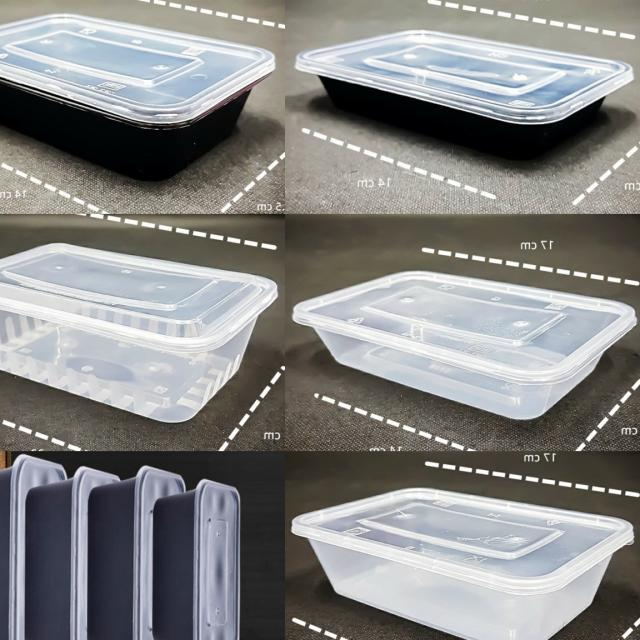plastik: (292, 488, 634, 640), (293, 271, 636, 418), (0, 244, 278, 421), (0, 14, 275, 179), (296, 29, 634, 158), (87, 466, 185, 640), (25, 466, 119, 640), (153, 480, 240, 640), (0, 455, 66, 640)
